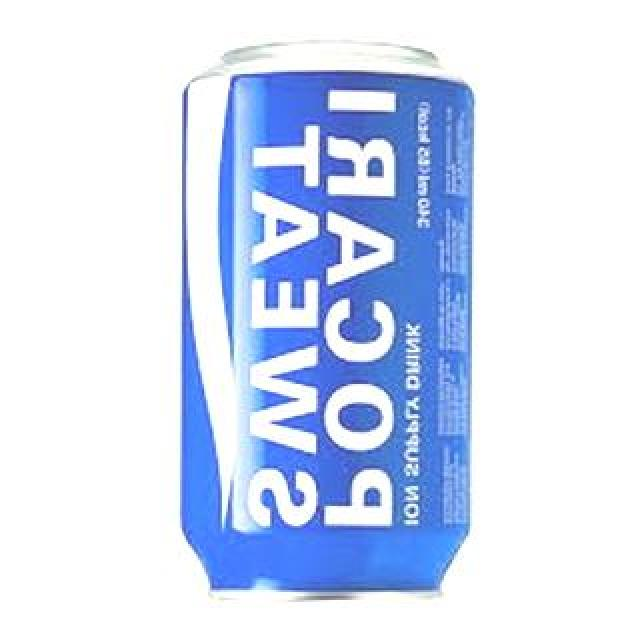Can: (172, 46, 494, 602)
